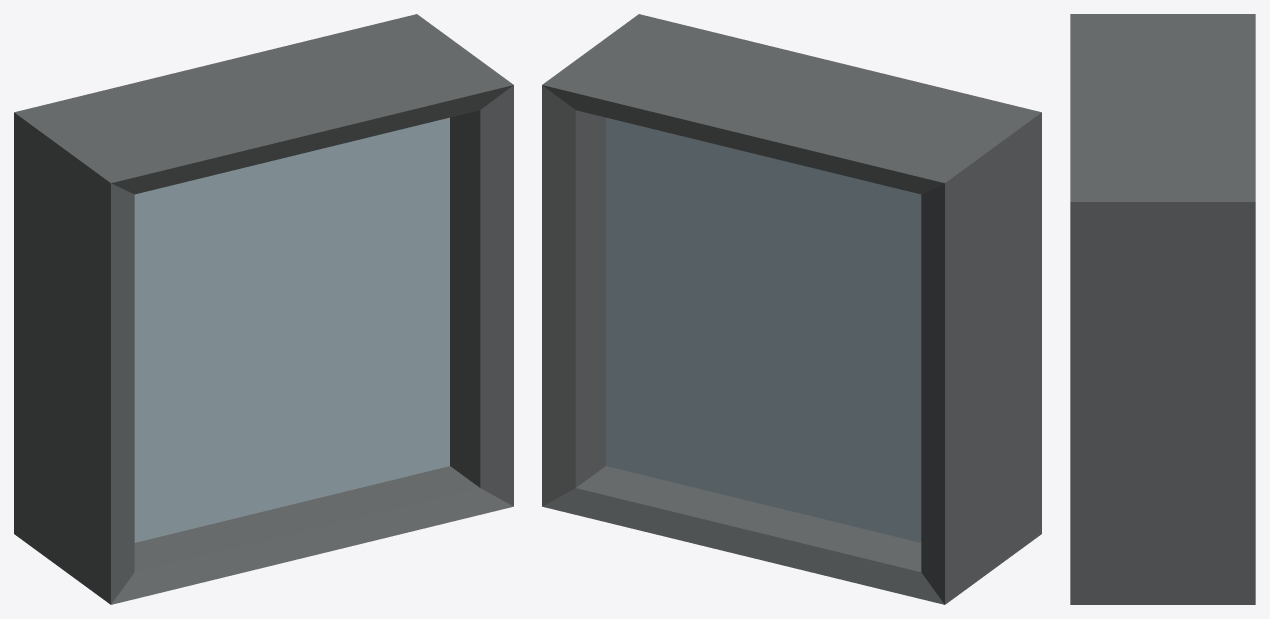
The model's file is Window Solid.fbx.
3 renders of one model, left to right at view 1: azimuth 30°, elevation 25°; view 2: azimuth 150°, elevation 25°; view 3: azimuth 270°, elevation 25°, orthographic. The views are drawn at different scales.
Visible parts, largest first — view 1: pCube6; view 2: pCube6; view 3: pCube6.
Boxes of the visible parts, x1=… form: pCube6: x1=14, y1=14, x2=513, y2=604; pCube6: x1=542, y1=14, x2=1041, y2=604; pCube6: x1=1070, y1=14, x2=1255, y2=604.
Bounding box in the file's own units: 1.2 × 1.2 × 0.5.
